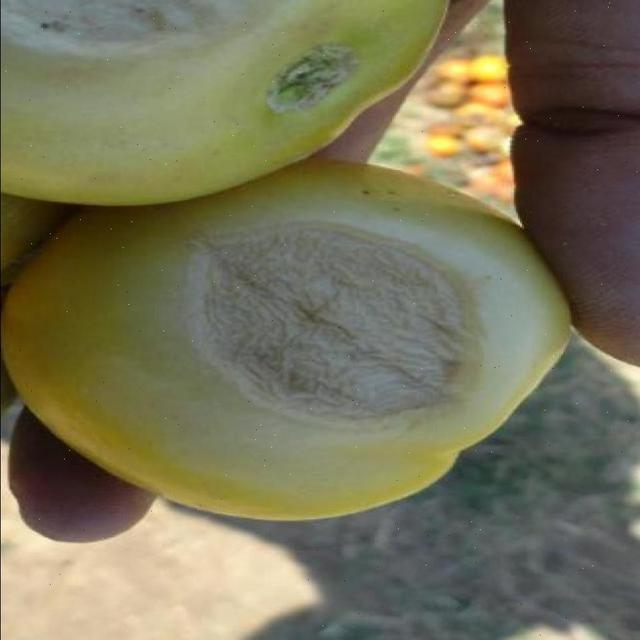Sunscald Fruit: (106, 20, 228, 221)
